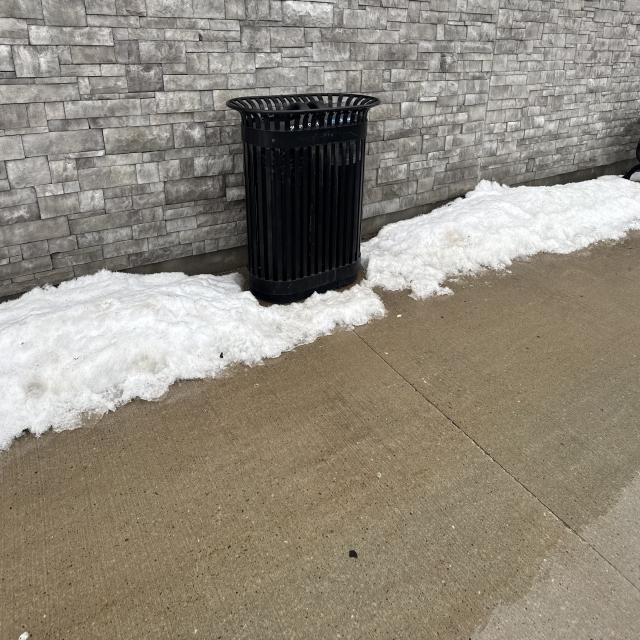Dustbin: (226, 94, 380, 302)
